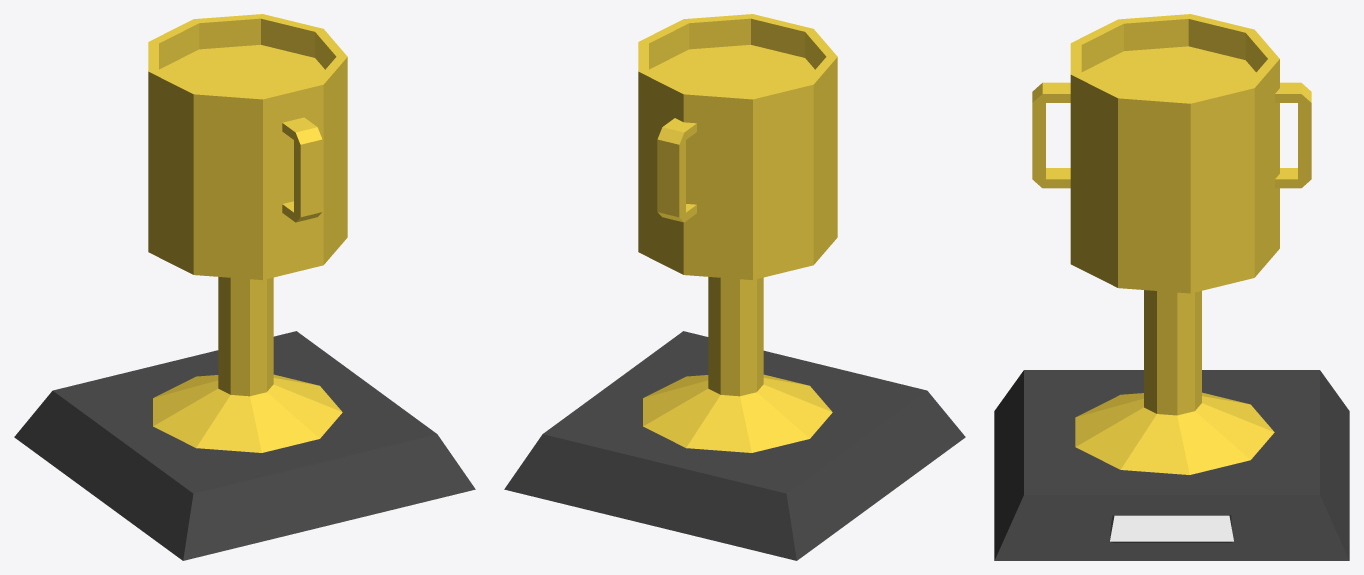
File: trophy.fbx
The picture shows the model from 3 angles, left to right: view 1: azimuth 30°, elevation 25°; view 2: azimuth 150°, elevation 25°; view 3: azimuth 270°, elevation 25°; orthographic projection. The views are drawn at different scales.
Visible parts, largest first — view 1: Cylinder, Base, Cube.001; view 2: Cylinder, Base, Cube.001; view 3: Cylinder, Base, Cube.001.
Boxes of the visible parts, x1,y1,x2,y2 form: Cylinder: (148, 14, 347, 452); Base: (14, 331, 475, 560); Cube.001: (282, 117, 322, 222); Cylinder: (638, 14, 837, 452); Base: (504, 331, 965, 560); Cube.001: (657, 118, 696, 222); Cylinder: (1070, 14, 1279, 474); Base: (994, 370, 1349, 560); Cube.001: (1032, 82, 1311, 188).
Bounding box in the file's own units: 330 × 437 × 329.
